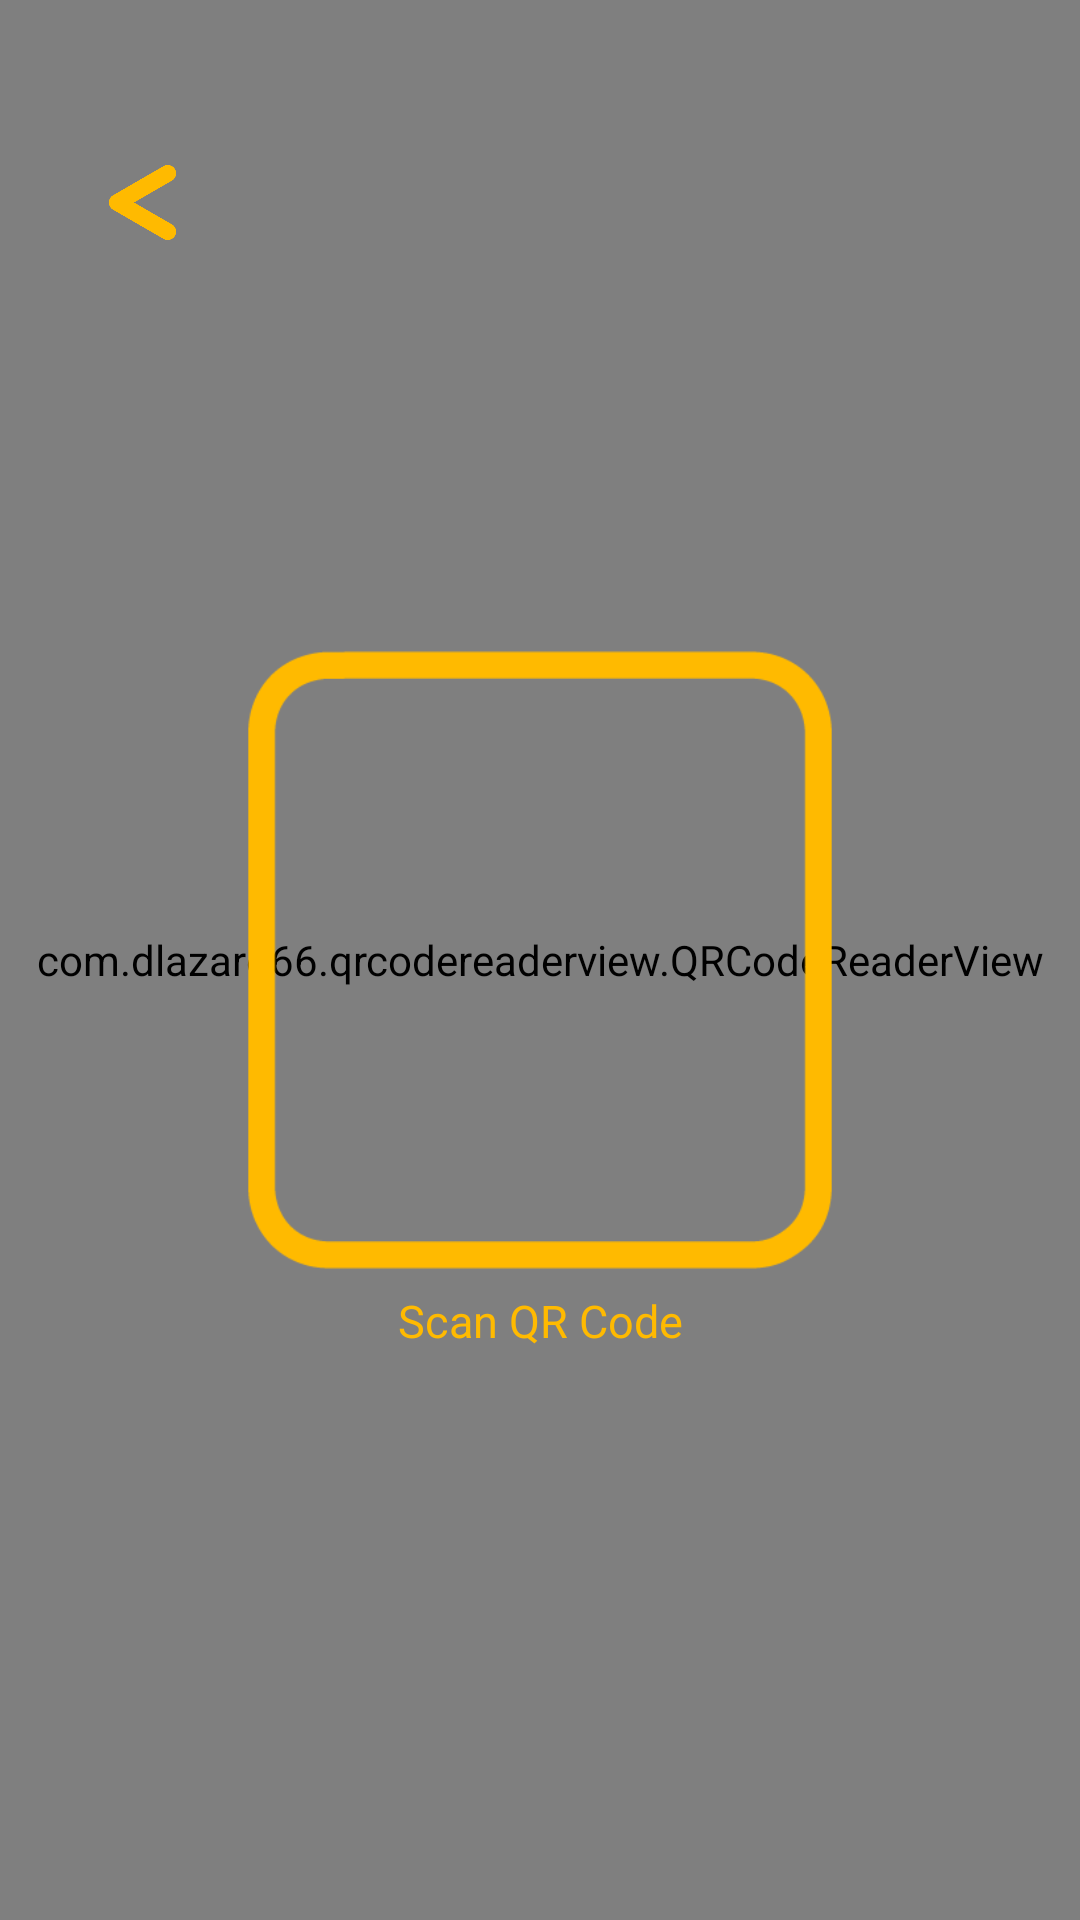

Icons on this 1080 x 1920 Android screen, each with the point to tap as point (x, y):
back: point (142, 202)
